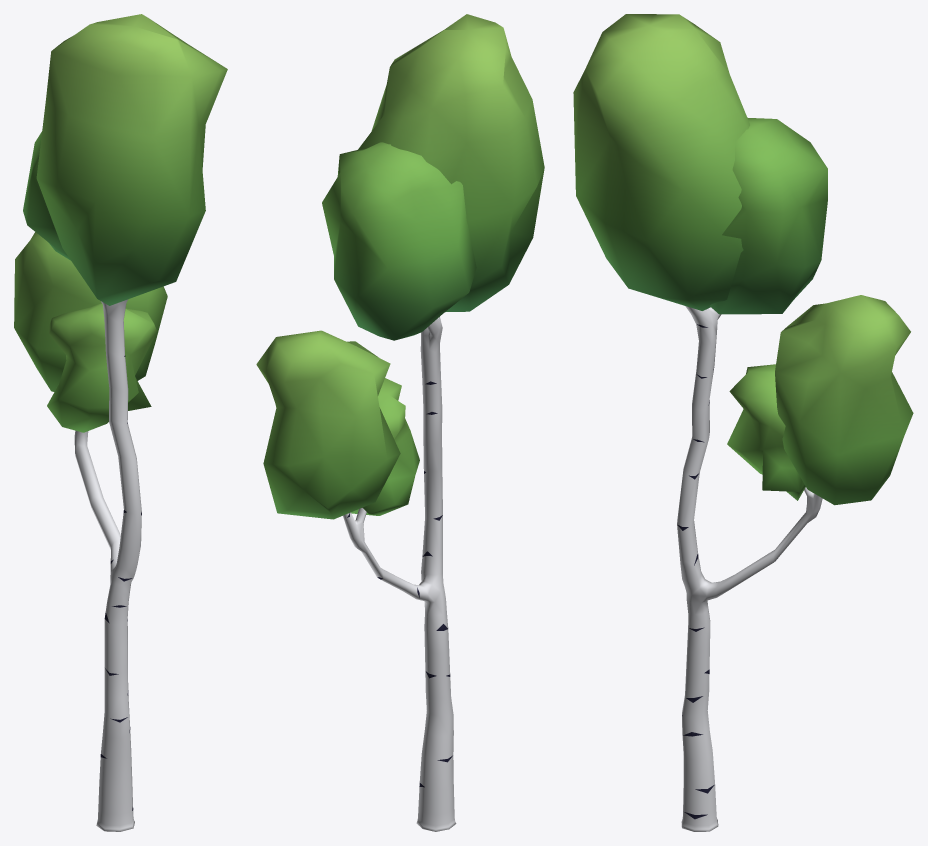
Rendered from BirchTree_5.fbx.
The picture shows the model from 3 angles, left to right: view 1: azimuth 30°, elevation 25°; view 2: azimuth 150°, elevation 25°; view 3: azimuth 270°, elevation 25°; orthographic projection. The views are drawn at different scales.
Parts seen in each view (by area): view 1: BirchTree_5.001, BirchTree_5; view 2: BirchTree_5.001, BirchTree_5; view 3: BirchTree_5.001, BirchTree_5.
Part boxes in pixels (<box>): BirchTree_5.001: <box>14,14,227,432</box>; BirchTree_5: <box>74,299,141,831</box>; BirchTree_5.001: <box>256,14,544,519</box>; BirchTree_5: <box>343,317,456,831</box>; BirchTree_5.001: <box>573,14,913,505</box>; BirchTree_5: <box>677,306,822,831</box>.
Bounding box in the file's own units: 1.19 × 5.01 × 1.93.
